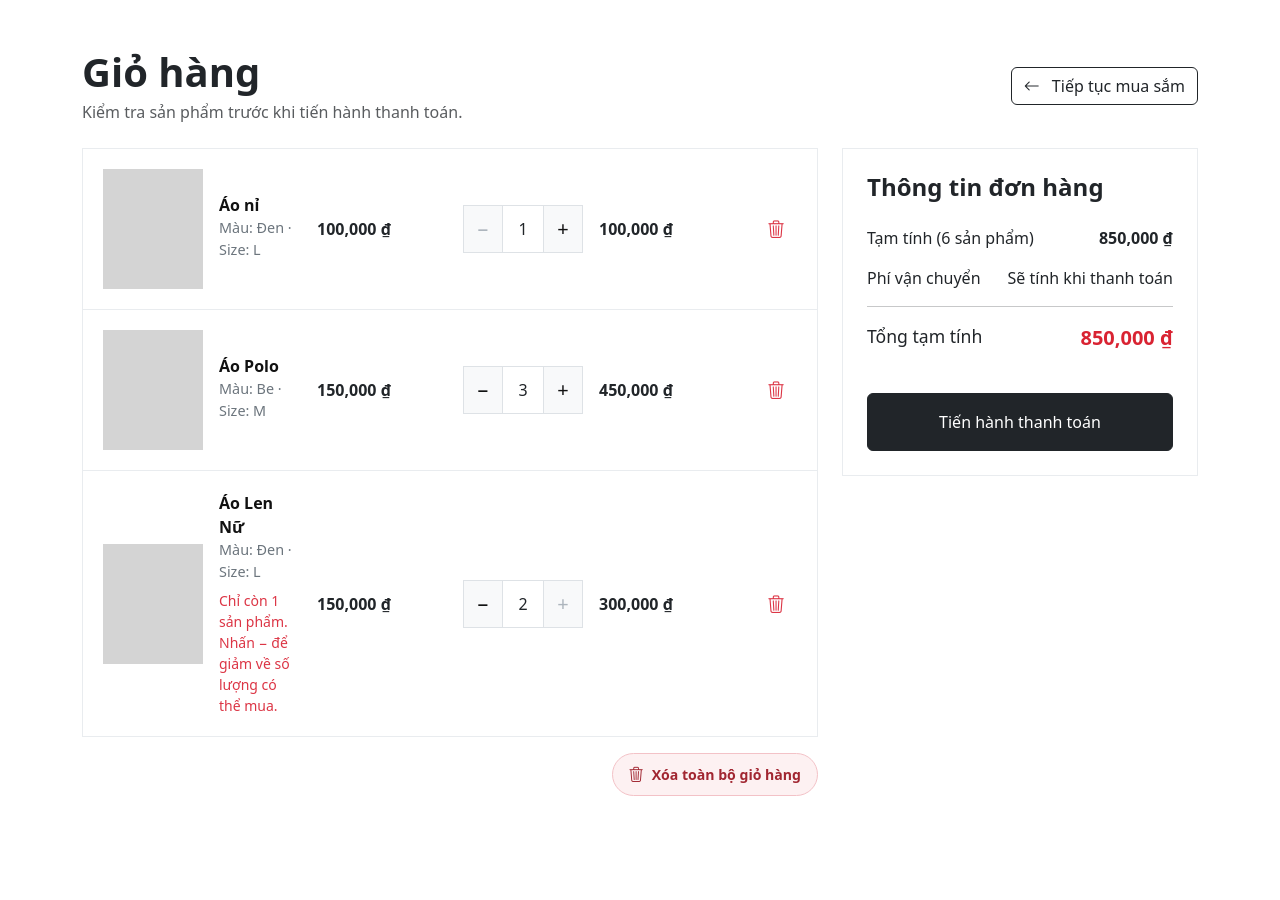
CartComponent › deletes only the selected row and keeps other products, totals and header count correct
What coordinates should you click on to do the following:
click the button with class "remove-button" next to "450,000 ₫"
I would click on:
 (776, 390)
Its box is [755, 376, 797, 404].
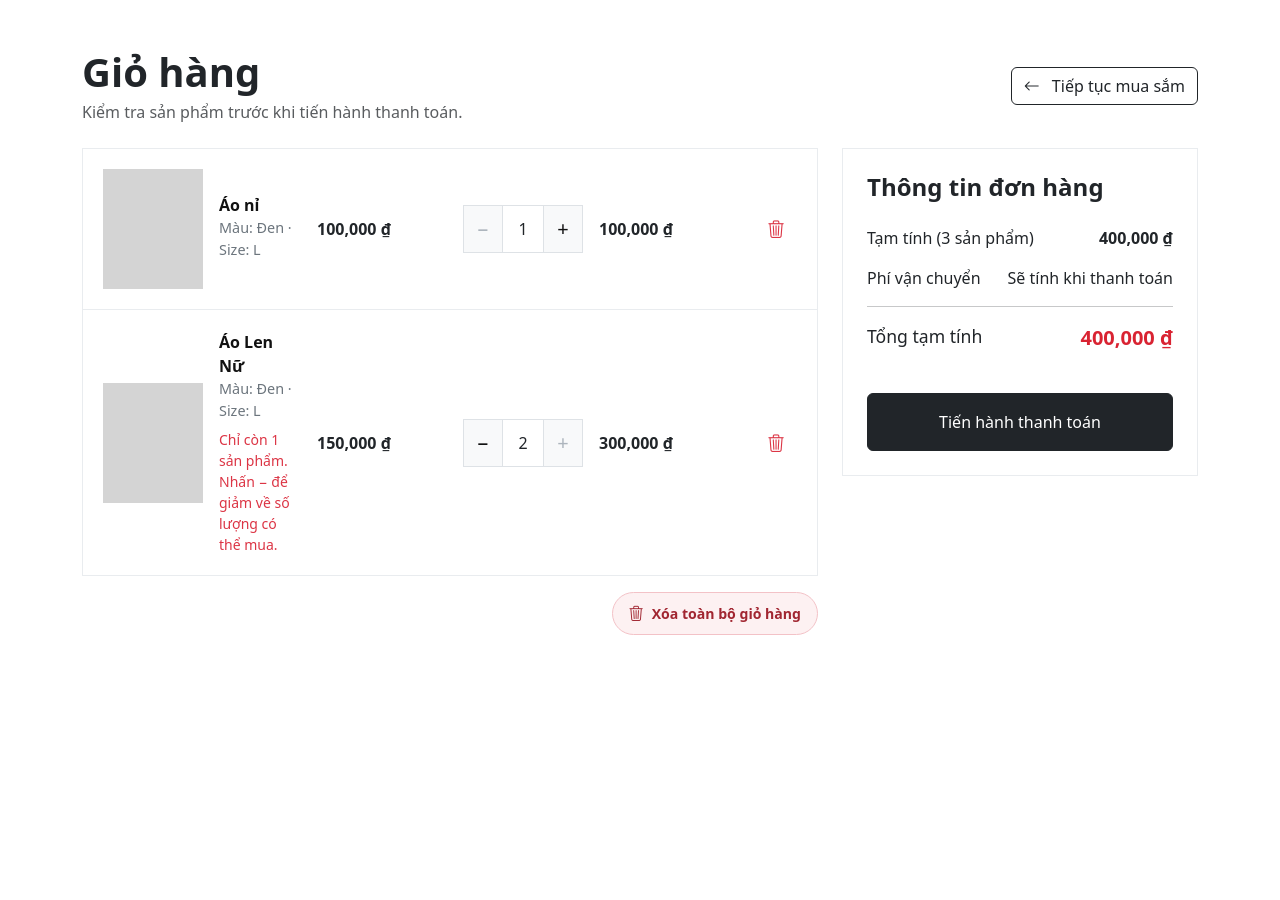
Check: the number of elements with class "cart-item" is 2, box [83, 149, 817, 310]; [83, 310, 817, 575]
Check: the element with class "summary-total" shows "400,000", box [1080, 324, 1173, 351]
